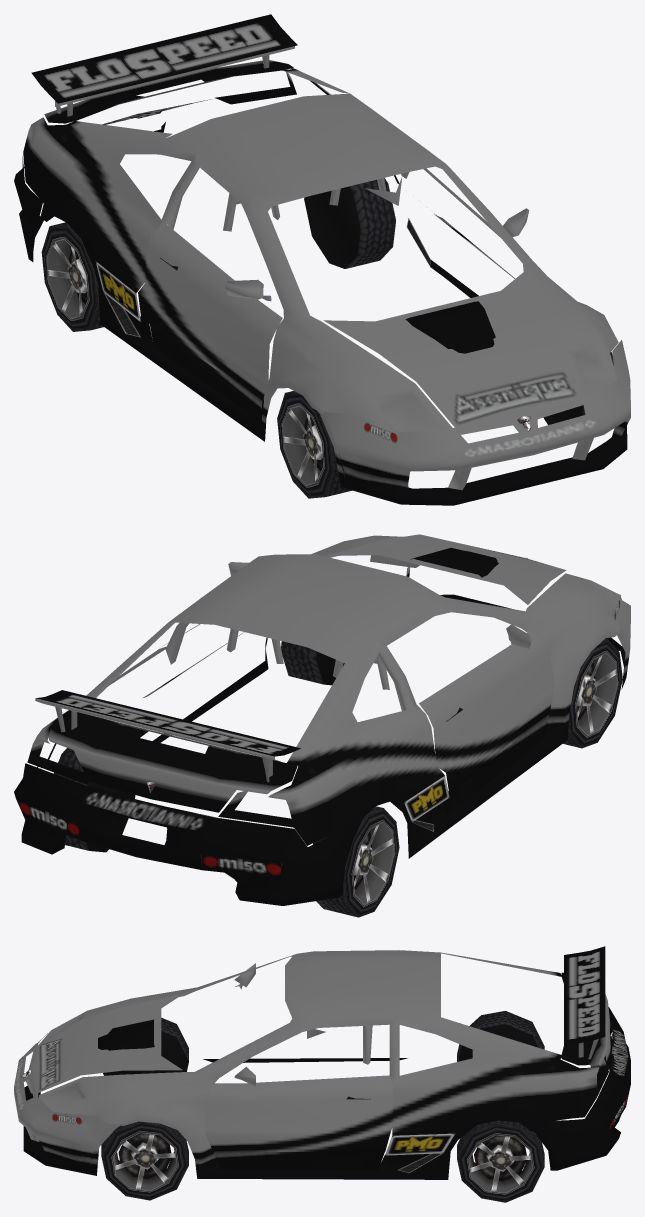
Rendered from car-COMP_Car8.glb.
3 views of the same model, one above another, from view 1: azimuth 30°, elevation 25°; view 2: azimuth 150°, elevation 25°; view 3: azimuth 270°, elevation 25° (orthographic). The views are drawn at different scales.
Visible parts, largest first — view 1: COMP_Car8; view 2: COMP_Car8; view 3: COMP_Car8.
Part boxes in pixels (bbox=[...]): COMP_Car8: bbox=[14, 14, 630, 505]; COMP_Car8: bbox=[14, 534, 630, 917]; COMP_Car8: bbox=[14, 946, 630, 1202].
Size of the model in its own units: 2.07 by 1.41 by 4.64.
19 materials, 19 textured.
